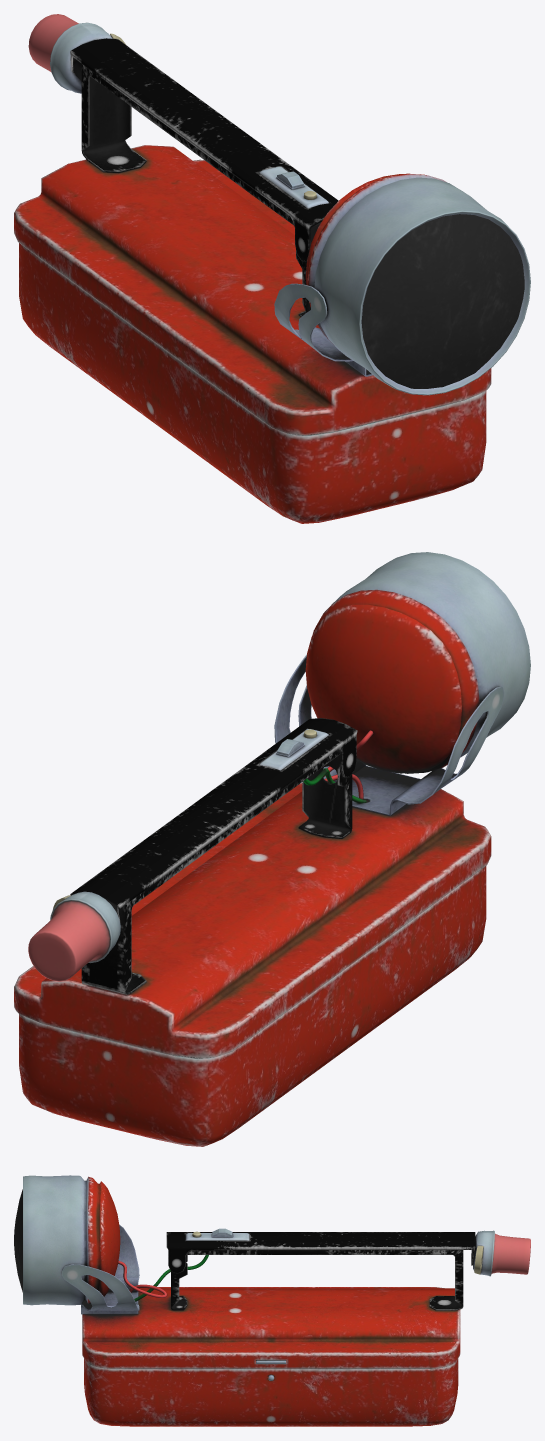
File: vintage_flashlight.glb
The picture shows the model from 3 angles, top to bottom: view 1: azimuth 30°, elevation 25°; view 2: azimuth 150°, elevation 25°; view 3: azimuth 270°, elevation 25°; orthographic projection. The views are drawn at different scales.
Visible parts, largest first — view 1: vintage_flashlight; view 2: vintage_flashlight; view 3: vintage_flashlight.
Part boxes in pixels (<box>): vintage_flashlight: <box>14,14,530,523</box>; vintage_flashlight: <box>14,552,530,1146</box>; vintage_flashlight: <box>14,1175,530,1426</box>.
Size of the model in its own units: 0.0959 by 0.1443 by 0.3055.
2 materials, 2 textured.
